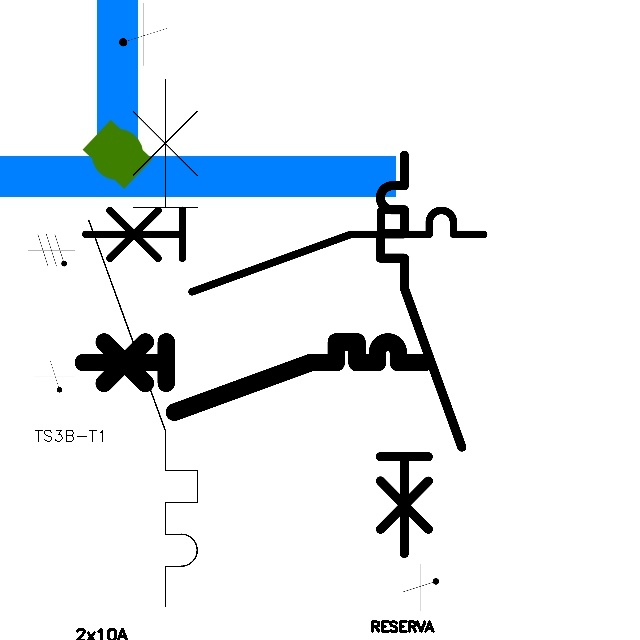interruptor_termomagnetico: (75, 65, 211, 619), (75, 200, 493, 302), (370, 145, 472, 563), (74, 333, 432, 420)
